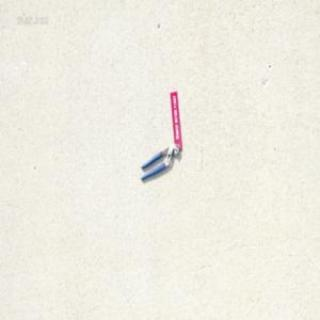LuggageTagtrack_idkeyframe: (169, 90, 182, 149)
Pliertrack_idkeyframe: (139, 141, 179, 180)
